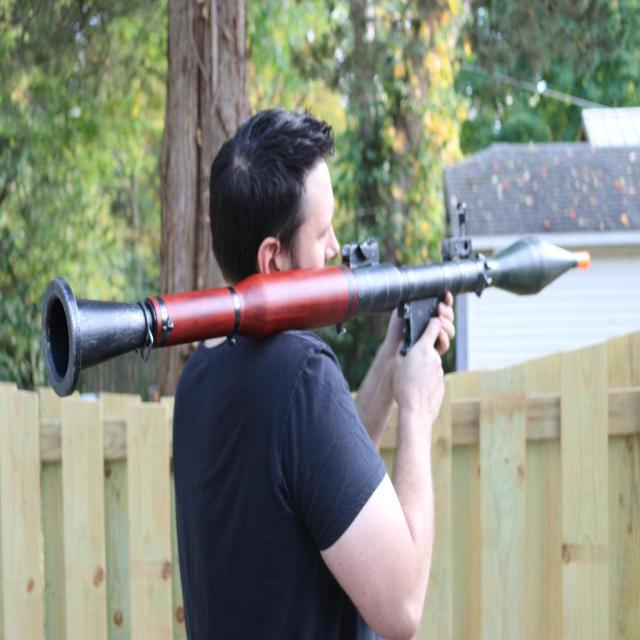bazooka: (40, 194, 593, 398)
